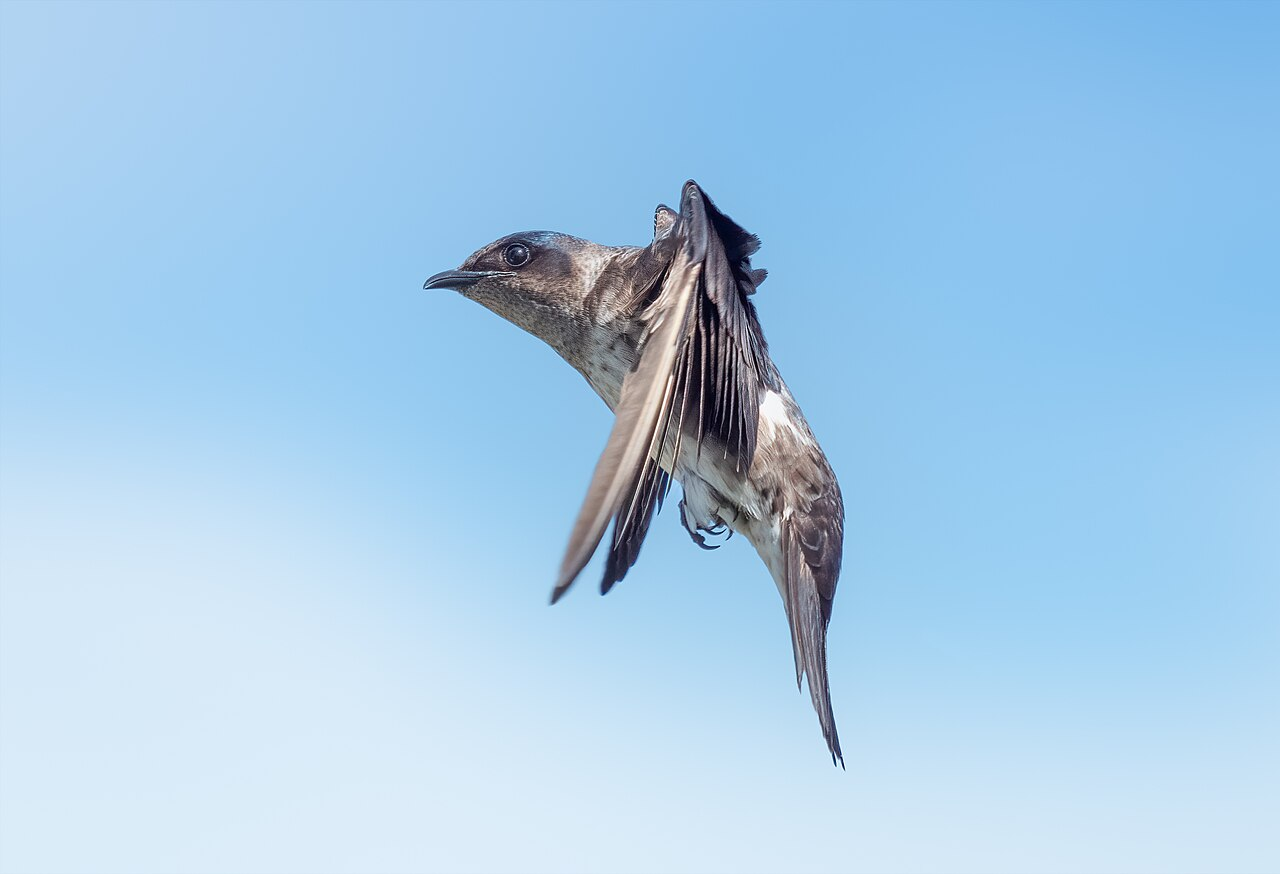bird: (420, 155, 847, 767)
